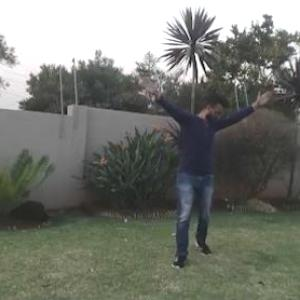takeoff: (140, 76, 273, 268)
